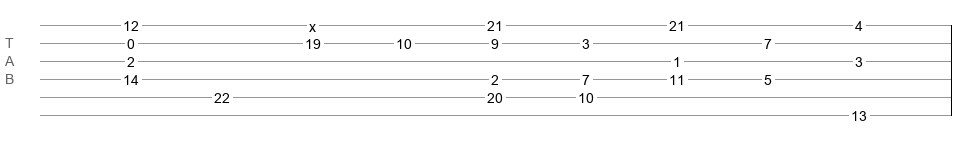0: (127, 36, 135, 46)
1: (673, 54, 681, 64)
10: (396, 36, 412, 46), (578, 90, 594, 100)
11: (669, 72, 685, 82)
12: (123, 18, 139, 28)
13: (851, 108, 867, 118)
14: (123, 72, 139, 82)
19: (305, 36, 321, 46)
2: (127, 54, 135, 64), (491, 72, 499, 82)
20: (487, 90, 503, 100)
21: (487, 18, 503, 28), (669, 18, 685, 28)
22: (214, 90, 230, 100)
3: (582, 36, 590, 46), (855, 54, 863, 64)
4: (855, 18, 863, 28)
5: (764, 72, 772, 82)
7: (582, 72, 590, 82), (764, 36, 772, 46)
9: (491, 36, 499, 46)
x: (309, 19, 316, 27)
